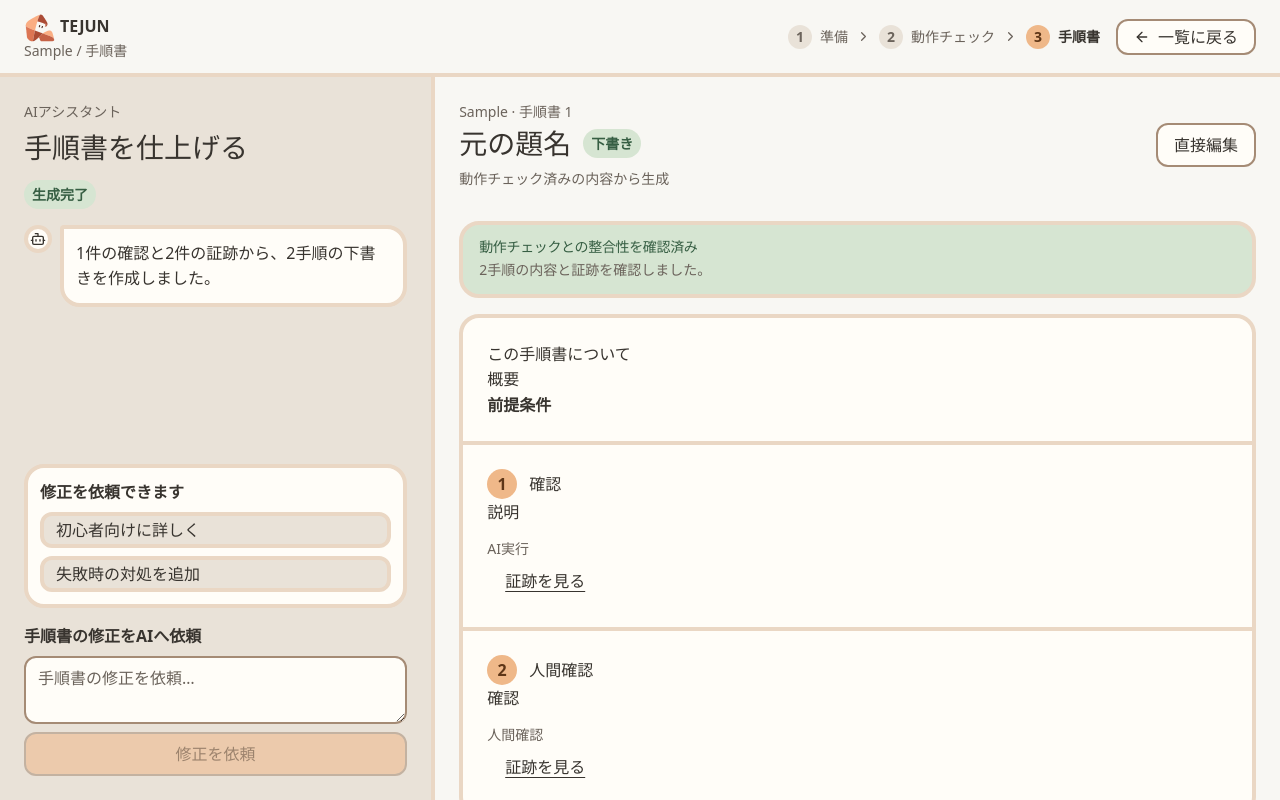
ProcedurePage › 証跡をAIと人間に分け、選択時に詳細を遅延取得する
Expected: the button with aria-label "人間確認の証跡を見る" is shown, [487,745,603,789]
Click the button with aria-label "確認の証跡を見る" at (545, 581), box [487,559,603,603]
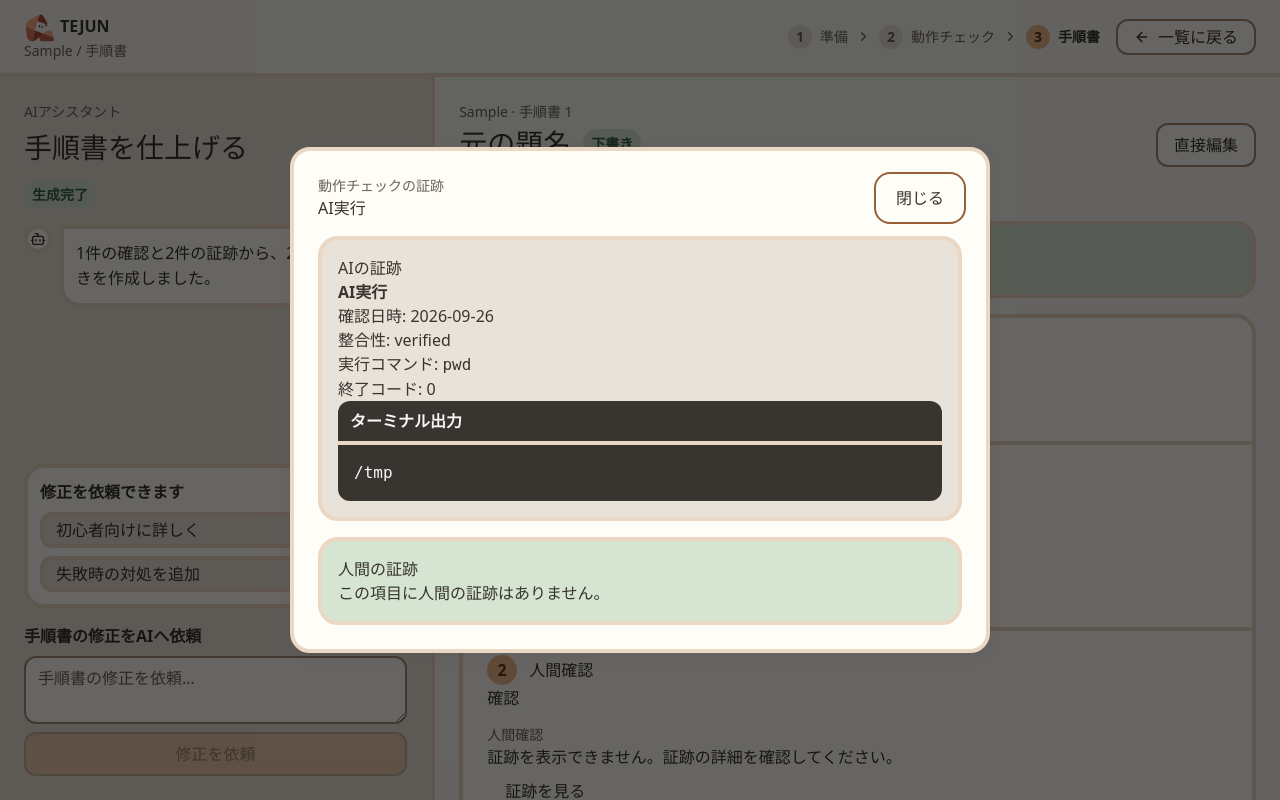
Now the text "/tmp" is shown, box [354,463,392,482]
